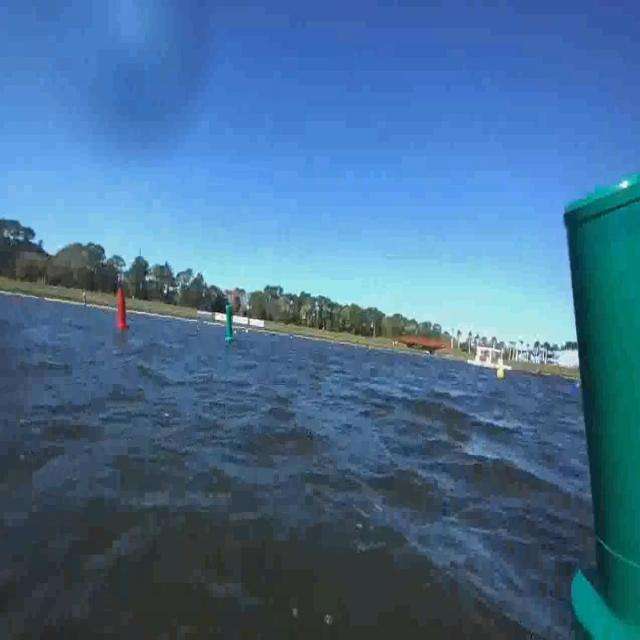green-column-buoy: (544, 158, 640, 640), (219, 292, 237, 346)
red-column-buoy: (112, 277, 135, 344)
